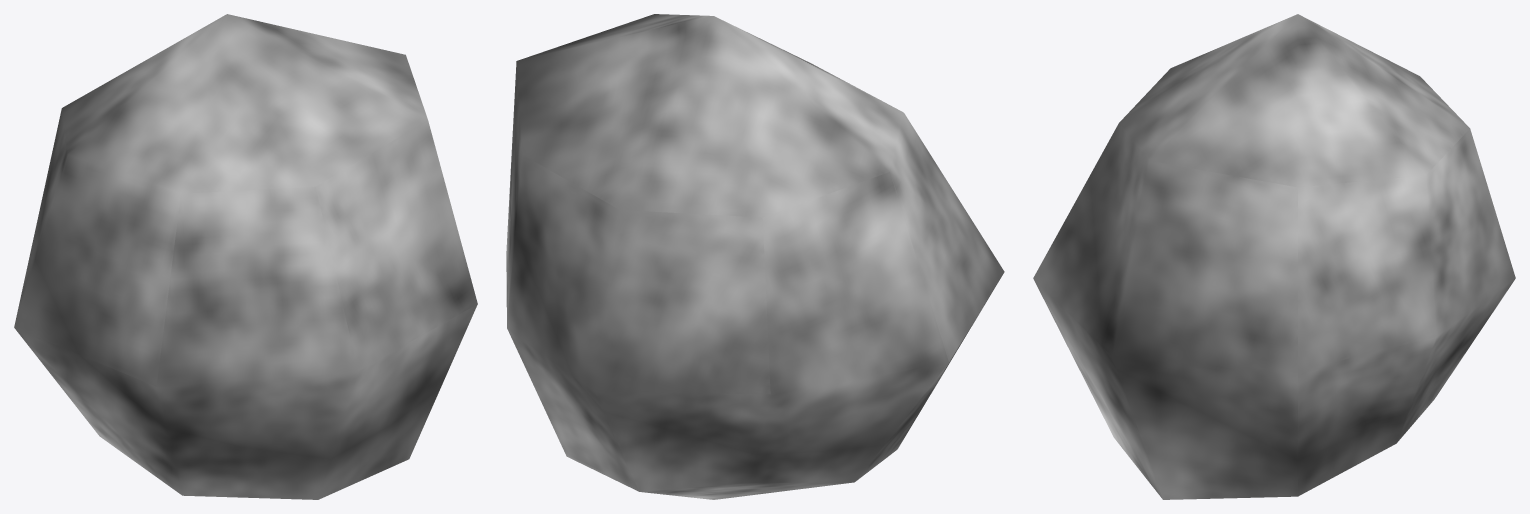
Rendered from asteroid_s.glb.
3 renders of one model, left to right at view 1: azimuth 30°, elevation 25°; view 2: azimuth 150°, elevation 25°; view 3: azimuth 270°, elevation 25°, orthographic. The views are drawn at different scales.
Parts seen in each view (by area): view 1: asteroid 01.008; view 2: asteroid 01.008; view 3: asteroid 01.008.
Boxes of the visible parts, x1=… form: asteroid 01.008: x1=14, y1=14, x2=477, y2=499; asteroid 01.008: x1=506, y1=14, x2=1004, y2=499; asteroid 01.008: x1=1033, y1=14, x2=1515, y2=499.
Bounding box in the file's own units: 1.96 × 2.04 × 2.02.
1 material, 1 textured.
